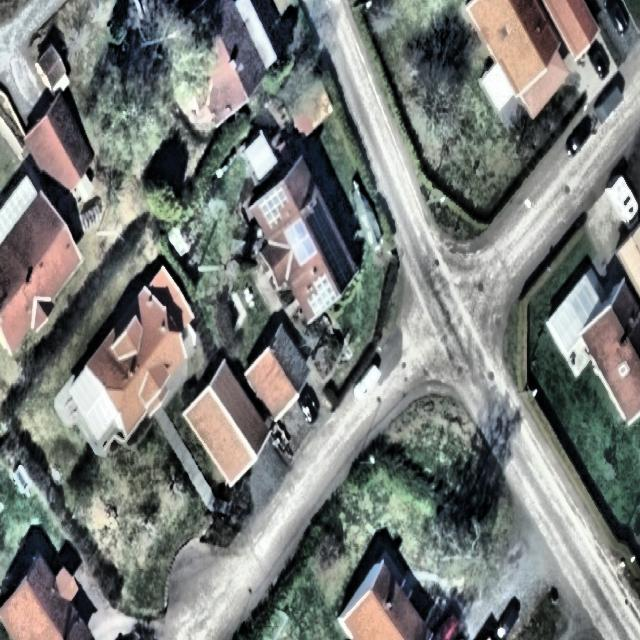roof_pv: (301, 268, 345, 322), (317, 238, 360, 293), (256, 183, 294, 232), (308, 197, 336, 249)
